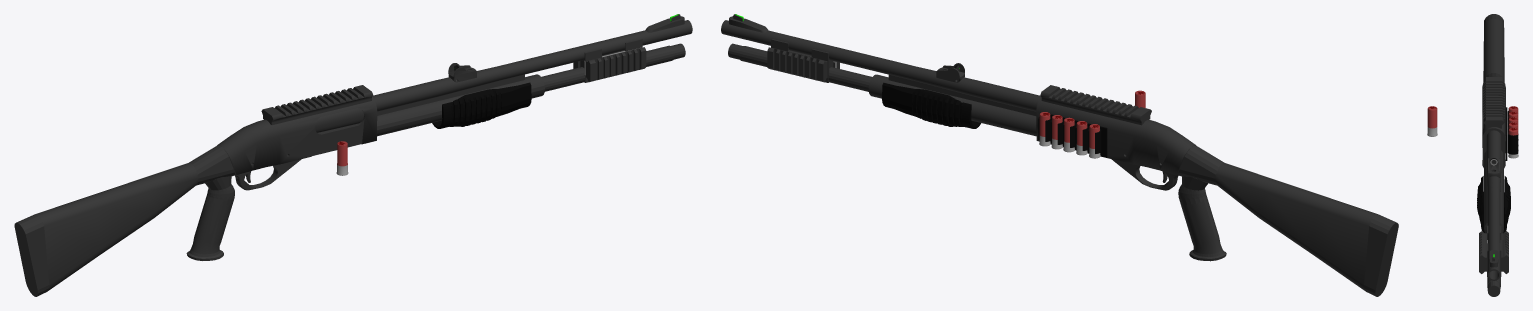
File: 870mcs.FBX
3 views of the same model, side by side, from view 1: azimuth 30°, elevation 25°; view 2: azimuth 150°, elevation 25°; view 3: azimuth 270°, elevation 25° (orthographic). The views are drawn at different scales.
Visible parts, largest first — view 1: 870mcs, 870mcs_pump, 870mcs_top rail, 870mcs_bolt; view 2: 870mcs, 870mcs_pump, 870mcs_side shells, 870mcs_top rail; view 3: 870mcs, 870mcs_top rail, 870mcs_side shells, 870mcs_pump, 870mcs_12 gauge round.
Part boxes in pixels (left/top/right/bottom): 870mcs: left=14, top=14, right=692, bottom=296; 870mcs_pump: left=432, top=82, right=531, bottom=128; 870mcs_top rail: left=261, top=85, right=373, bottom=124; 870mcs_bolt: left=315, top=108, right=363, bottom=132; 870mcs: left=721, top=14, right=1398, bottom=296; 870mcs_pump: left=882, top=82, right=981, bottom=128; 870mcs_side shells: left=1038, top=112, right=1107, bottom=158; 870mcs_top rail: left=1040, top=85, right=1151, bottom=125; 870mcs: left=1479, top=14, right=1508, bottom=296; 870mcs_top rail: left=1483, top=77, right=1504, bottom=128; 870mcs_side shells: left=1505, top=106, right=1518, bottom=160; 870mcs_pump: left=1477, top=176, right=1510, bottom=233; 870mcs_12 gauge round: left=1427, top=106, right=1437, bottom=136.
Bounding box in the file's own units: 37.83 × 7.04 × 5.02.
